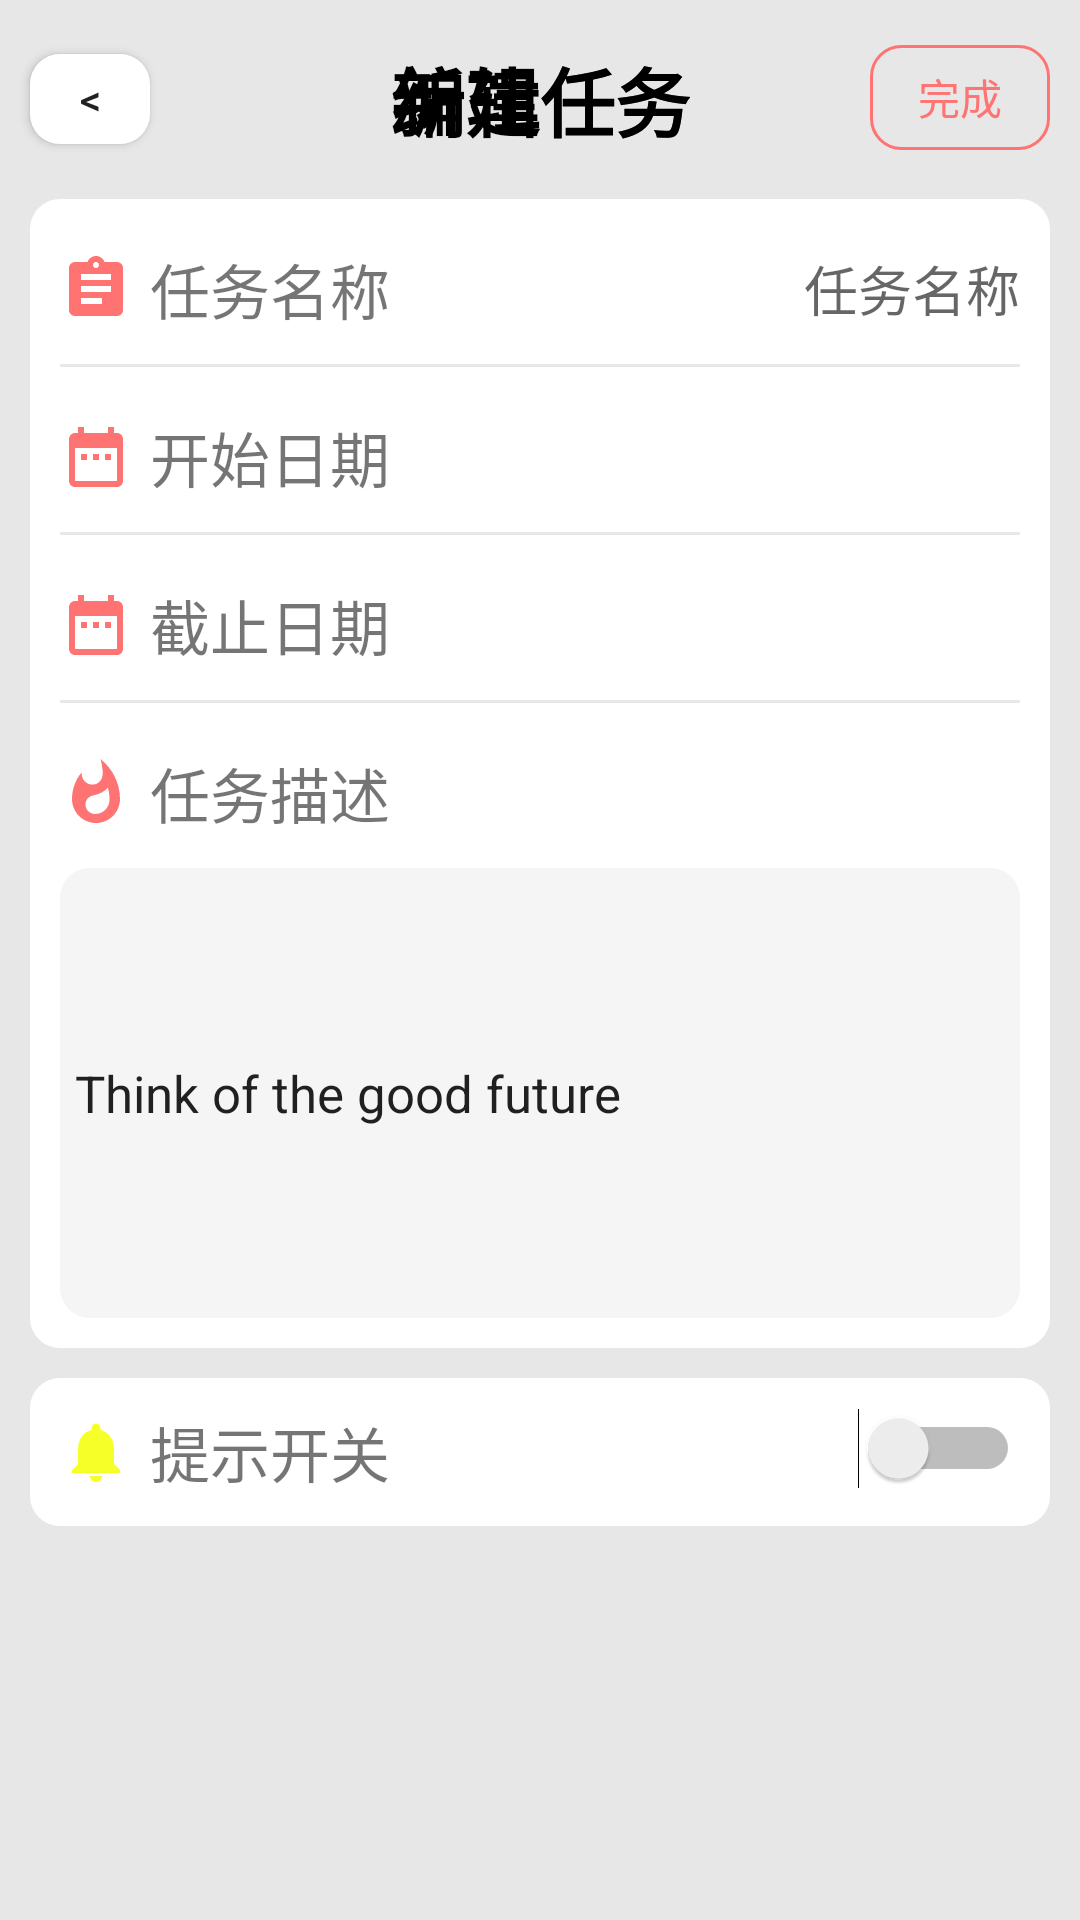

Icon click points for this 1080w x 1920h phone screenshot, format point (x, y):
assignment: point (96, 286)
date range: point (96, 457), point (96, 625)
notifications: point (96, 1452)
whatshot: point (96, 791)
